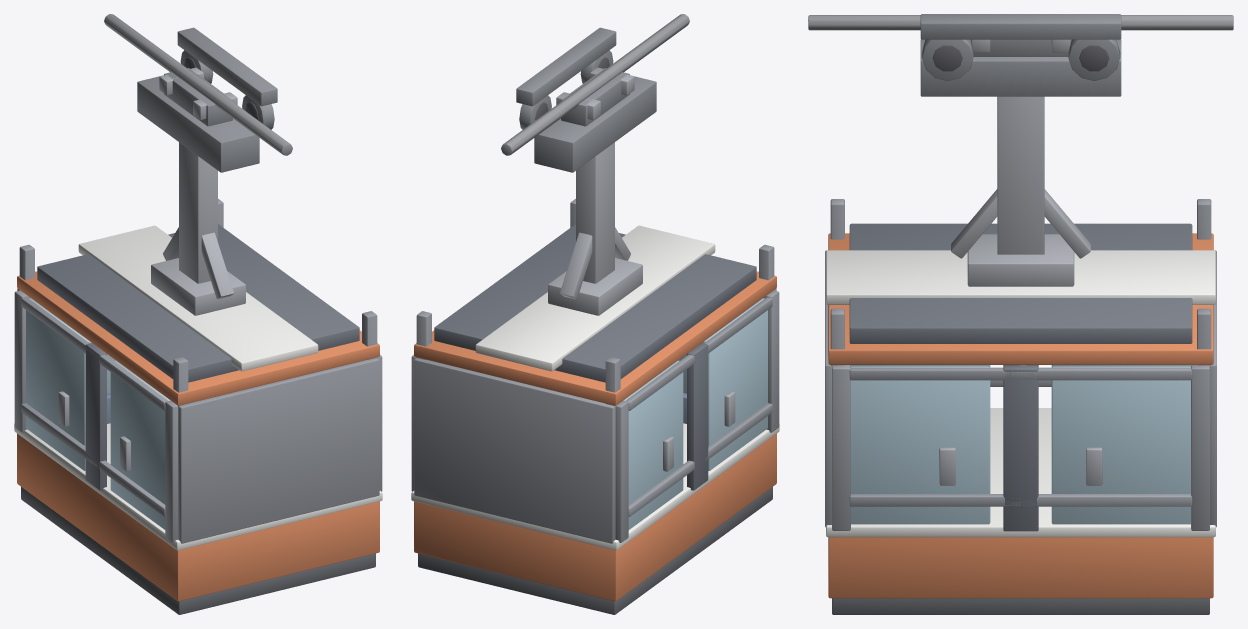
The model's file is th26_seilbahn_gondel.glb.
3 views of the same model, side by side, from view 1: azimuth 30°, elevation 25°; view 2: azimuth 150°, elevation 25°; view 3: azimuth 270°, elevation 25° (orthographic). The views are drawn at different scales.
Visible parts, largest first — view 1: Cube.004, Cube.001, Cube.030, Cube.031, Cube.029, Cube.008, Cube.007, Cube.045, Cube, Cube.041, Cube.002, Cylinder.005 (+13 smaller); view 2: Cube.006, Cube.001, Cube.030, Cube.031, Cube.029, Cube.007, Cube.008, Cube.045, Cube, Cube.041, Cube.002, Cylinder.005 (+13 smaller); view 3: Cube.001, Cube.030, Cube.016, Cube.017, Cube.031, Cube.029, Cube.002, Cube.041, Cube, Cube.045, Cube.018, Cube.046 (+21 smaller).
Boxes of the visible parts, x1,y1,x2,y2 form: Cube.004: (178,358,379,543); Cube.001: (17,433,379,601); Cube.030: (37,224,359,382); Cube.031: (78,225,318,371); Cube.029: (17,271,379,405); Cube.008: (26,298,91,470); Cube.007: (110,360,170,529); Cube.045: (137,75,259,172); Cube: (21,487,375,614); Cube.041: (179,142,217,283); Cube.002: (14,423,382,550); Cylinder.005: (104,14,292,155); Cube.006: (414,358,615,543); Cube.001: (414,433,776,601); Cube.030: (434,224,756,382); Cube.031: (475,225,715,371); Cube.029: (414,271,776,405); Cube.007: (702,298,767,470); Cube.008: (623,360,683,529); Cube.045: (534,75,656,172); Cube: (418,487,772,614); Cube.041: (576,142,614,283); Cube.002: (411,423,779,550); Cylinder.005: (501,14,689,155); Cube.001: (828,537,1213,598); Cube.030: (849,223,1192,343); Cube.016: (851,366,990,524); Cube.017: (1051,366,1190,524); Cube.031: (826,250,1215,304); Cube.029: (828,233,1213,364); Cube.002: (826,408,1215,537); Cube.041: (997,96,1044,254); Cube: (832,598,1209,614); Cube.045: (920,39,1121,96); Cube.018: (1003,365,1038,531); Cube.046: (920,14,1121,39).
Size of the model in its own units: 2.48 by 5.2 by 3.6.
